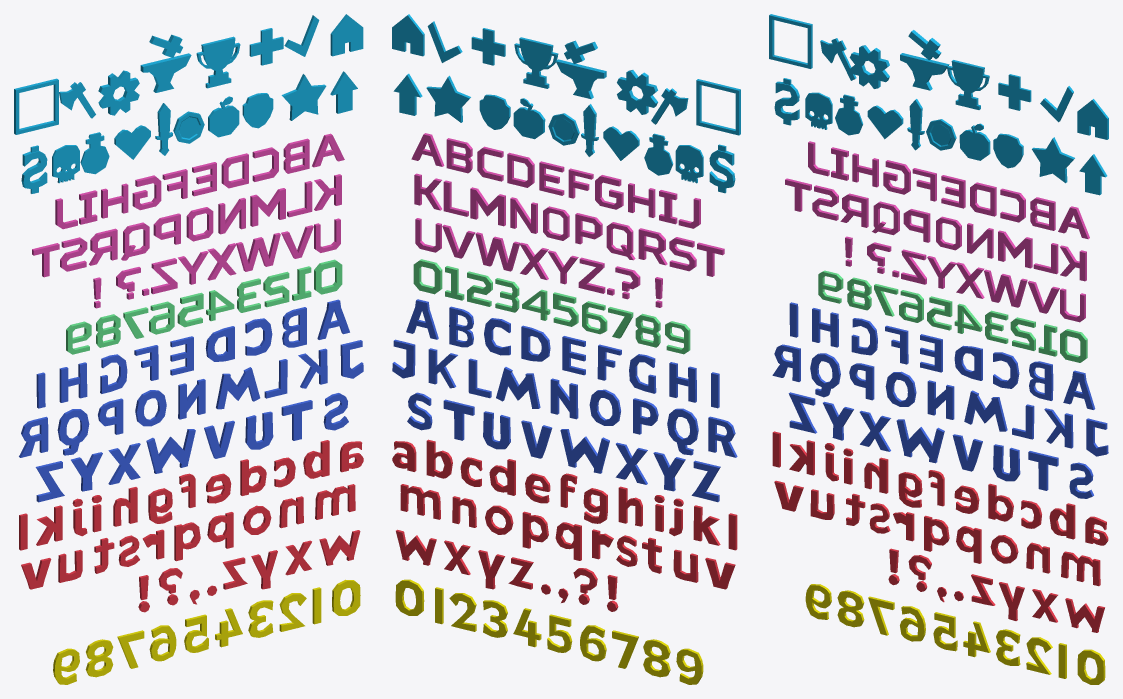
The model's file is Letters_and_icons.fbx.
3 renders of one model, left to right at view 1: azimuth 30°, elevation 25°; view 2: azimuth 150°, elevation 25°; view 3: azimuth 330°, elevation 25°, orthographic. The views are drawn at different scales.
Parts seen in each view (by area): view 1: icon.014, icon.013, icon.015, uppercase W, icon.07, icon.012, icon.08, uppercase M, icon.04, block letter W, icon.09, icon.05 (+71 smaller); view 2: icon.014, icon.013, icon.015, uppercase W, icon.07, icon.012, icon.08, uppercase M, icon.04, icon.09, block letter W, uppercase Q (+72 smaller); view 3: icon.014, icon.013, icon.015, uppercase W, icon.07, icon.012, icon.08, uppercase M, icon.04, icon.09, block letter W, icon.05 (+69 smaller).
Boxes of the visible parts, x1,y1,x2,y2 form: icon.014: [140, 34, 191, 92]; icon.013: [196, 36, 240, 88]; icon.015: [98, 70, 139, 115]; uppercase W: [146, 429, 195, 473]; icon.07: [281, 74, 326, 120]; icon.012: [330, 14, 363, 56]; icon.08: [14, 78, 58, 134]; uppercase M: [216, 367, 260, 409]; icon.04: [208, 96, 239, 137]; block letter W: [236, 233, 280, 271]; icon.09: [52, 145, 79, 183]; icon.05: [242, 93, 273, 128]; icon.014: [555, 40, 606, 99]; icon.013: [514, 37, 558, 88]; icon.015: [617, 70, 657, 114]; uppercase W: [560, 429, 609, 473]; icon.07: [426, 75, 470, 122]; icon.012: [392, 14, 424, 56]; icon.08: [696, 79, 740, 135]; uppercase M: [496, 367, 540, 408]; icon.04: [513, 98, 545, 139]; icon.09: [675, 145, 703, 183]; block letter W: [475, 232, 520, 271]; uppercase Q: [667, 408, 698, 455]; icon.014: [900, 30, 949, 90]; icon.013: [947, 60, 989, 109]; icon.015: [849, 45, 889, 88]; uppercase W: [896, 419, 944, 463]; icon.07: [1032, 137, 1074, 183]; icon.012: [1077, 99, 1108, 139]; icon.08: [769, 14, 812, 68]; uppercase M: [964, 390, 1007, 431]; icon.04: [959, 123, 990, 160]; icon.09: [805, 92, 832, 129]; block letter W: [984, 269, 1027, 307]; icon.05: [993, 133, 1023, 168].
Bounding box in the file's own units: 417 × 713 × 14.93.
